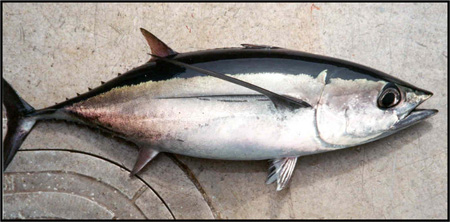fish: (3, 28, 439, 192)
